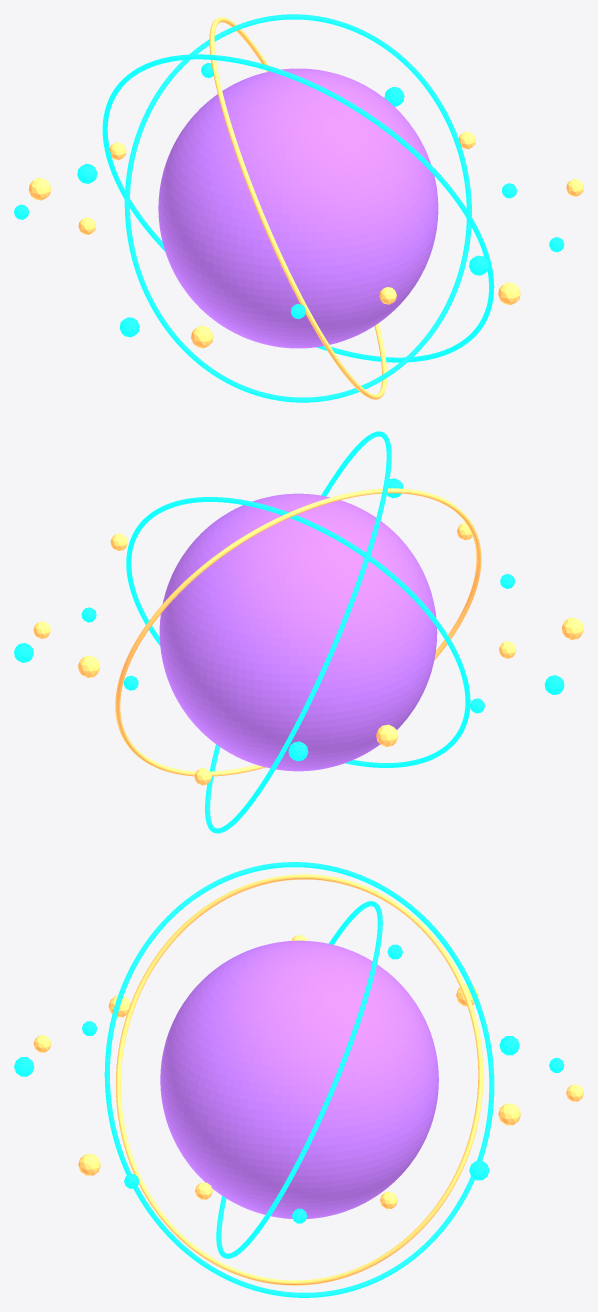
The model's file is lingxi-visual-test-2.glb.
The picture shows the model from 3 angles, top to bottom: view 1: azimuth 30°, elevation 25°; view 2: azimuth 150°, elevation 25°; view 3: azimuth 270°, elevation 25°; orthographic projection.
Parts seen in each view (by area): view 1: AI generated central world - cyberpunk AI world, animated orbit ring 1, animated orbit ring 3, animated orbit ring 2; view 2: AI generated central world - cyberpunk AI world, animated orbit ring 2, animated orbit ring 1, animated orbit ring 3; view 3: AI generated central world - cyberpunk AI world, animated orbit ring 3, animated orbit ring 2, animated orbit ring 1.
Part boxes in pixels (<box>): AI generated central world - cyberpunk AI world: <box>158,68,438,348</box>; animated orbit ring 1: <box>124,14,471,402</box>; animated orbit ring 3: <box>102,54,494,362</box>; animated orbit ring 2: <box>209,17,387,399</box>; AI generated central world - cyberpunk AI world: <box>159,493,437,771</box>; animated orbit ring 2: <box>115,488,481,776</box>; animated orbit ring 1: <box>126,497,470,767</box>; animated orbit ring 3: <box>205,431,391,833</box>; AI generated central world - cyberpunk AI world: <box>160,940,438,1218</box>; animated orbit ring 3: <box>104,862,494,1297</box>; animated orbit ring 2: <box>115,874,483,1285</box>; animated orbit ring 1: <box>216,901,382,1258</box>.
Size of the model in its own units: 5.25 by 3.84 by 5.52.
